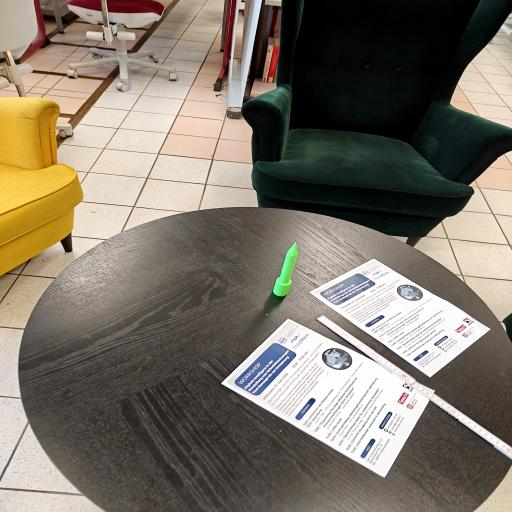Probe-Detection: (273, 243, 298, 296)
